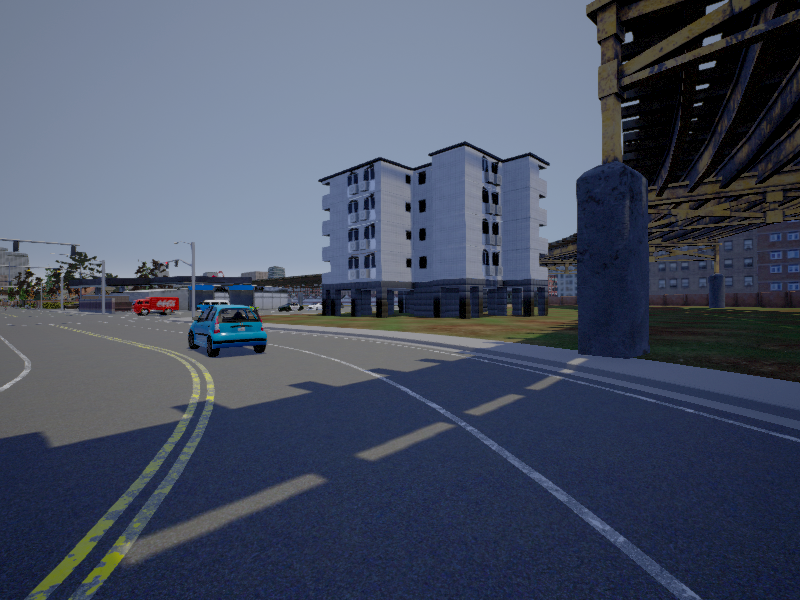Benign: (188, 304, 267, 359), (134, 297, 179, 317), (198, 300, 232, 313), (279, 303, 305, 314)
